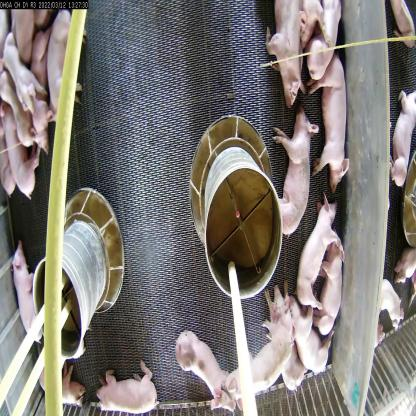Pig: (213, 276, 298, 415), (270, 103, 321, 247), (310, 55, 352, 199), (172, 326, 240, 414), (6, 241, 56, 352), (294, 187, 338, 312), (283, 288, 334, 380), (265, 0, 306, 111), (92, 354, 164, 416), (0, 68, 52, 153), (0, 106, 47, 198), (311, 233, 347, 344), (3, 31, 46, 119), (46, 7, 78, 124), (387, 81, 416, 207), (305, 0, 344, 88), (30, 354, 86, 412), (375, 270, 407, 335), (382, 0, 416, 56), (298, 0, 332, 55), (394, 244, 416, 290)
